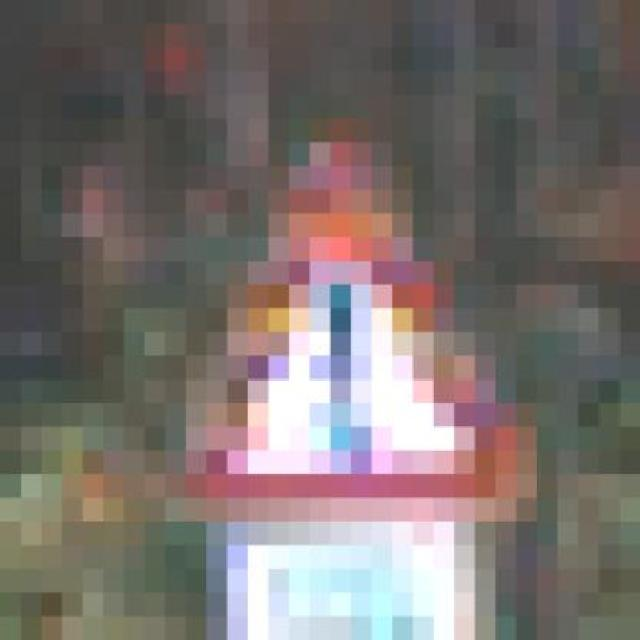Attention Please-: (144, 119, 558, 522)
